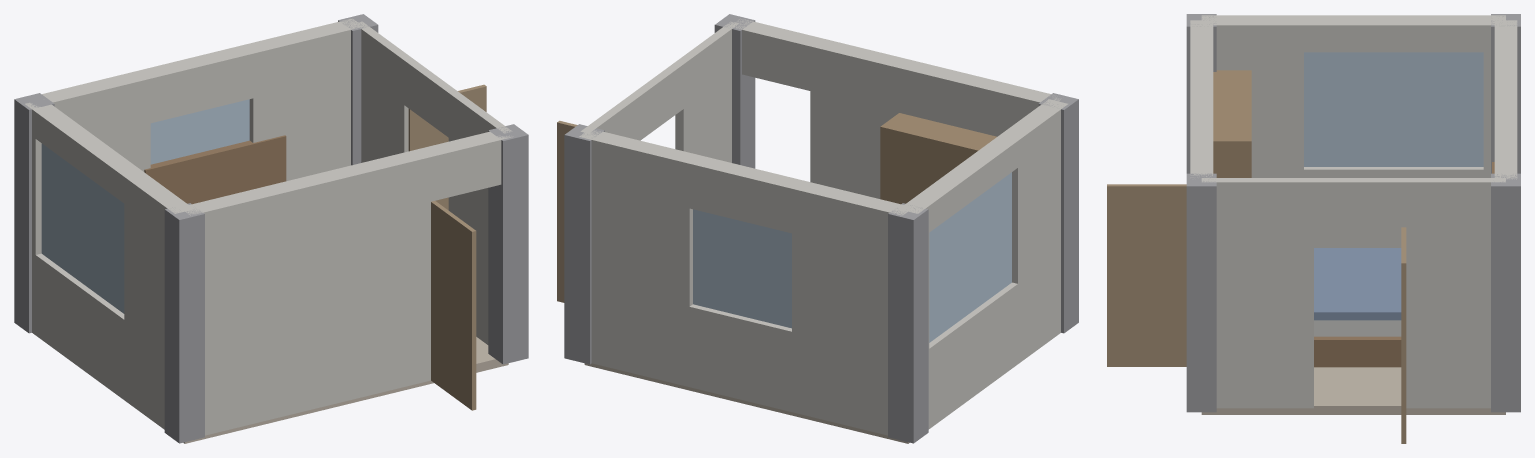
The model's file is bedroom.glb.
3 views of the same model, side by side, from view 1: azimuth 30°, elevation 25°; view 2: azimuth 150°, elevation 25°; view 3: azimuth 270°, elevation 25° (orthographic).
Size of the model in its own units: 4.84 by 2.6 by 4.15.
